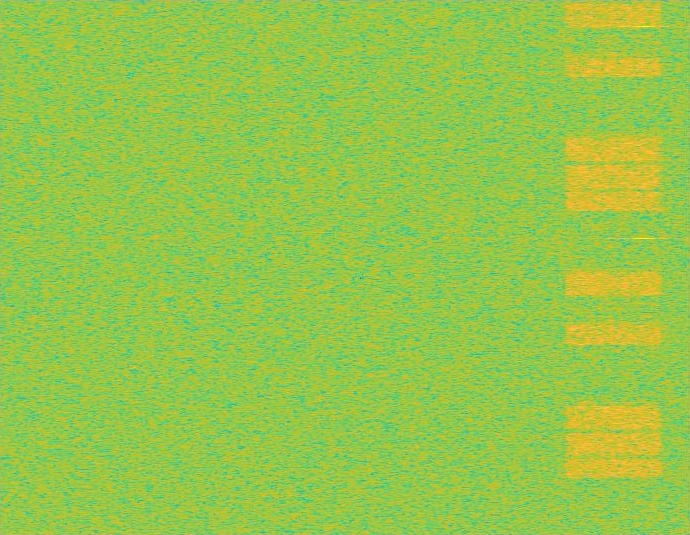LTE: (562, 0, 666, 534)
Radar: (637, 0, 651, 534)
